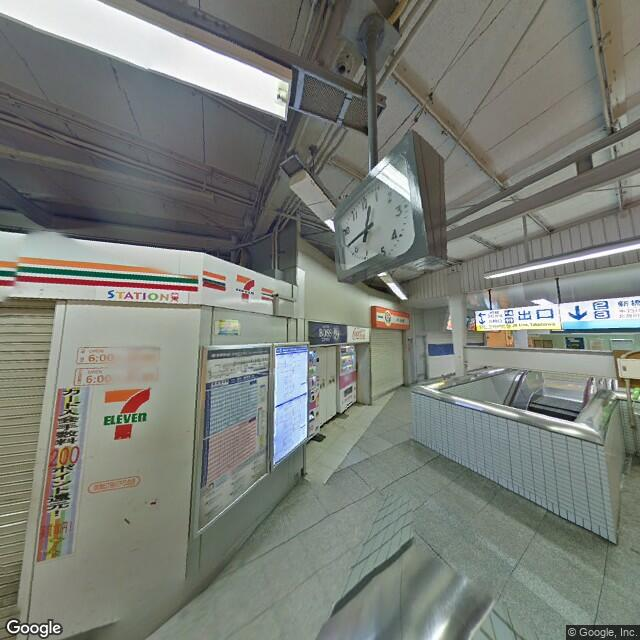7-eleven: (4, 246, 278, 312), (99, 369, 156, 446), (228, 267, 258, 313)
